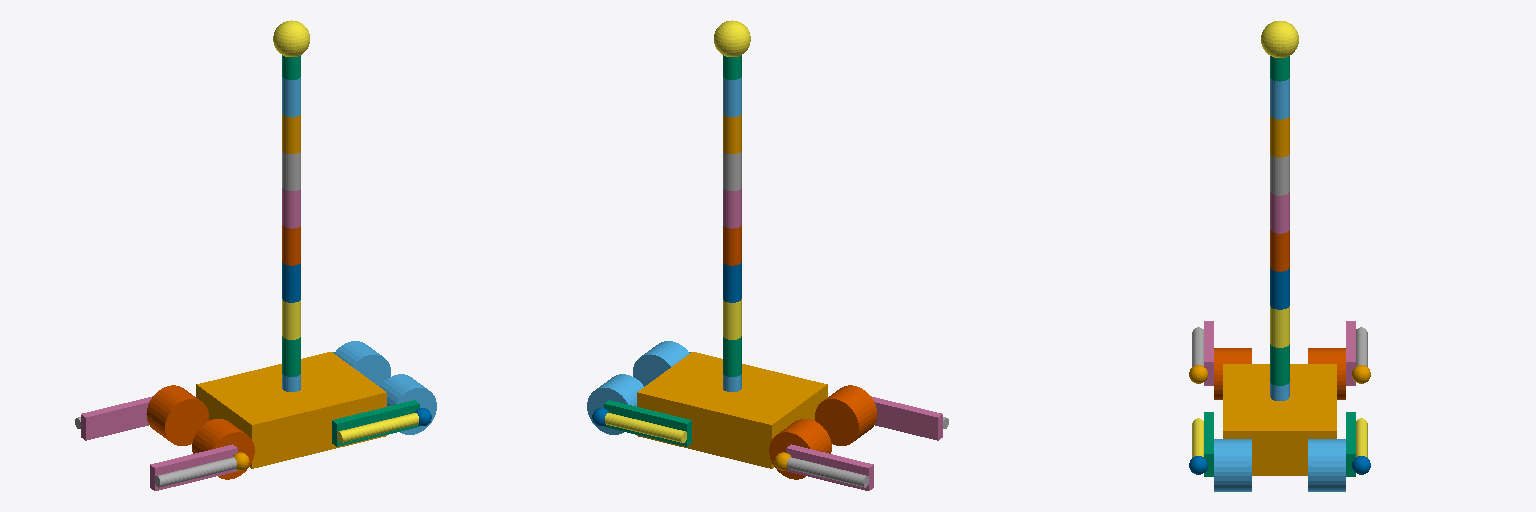
--- Facts derived from the render (not from the file) ---
3 views of the same robot in one strip: view 1: azimuth 30°, elevation 25°; view 2: azimuth 150°, elevation 25°; view 3: azimuth 270°, elevation 25° (orthographic).
Robot: spirit — 28 links, 27 joints (22 revolute, 5 fixed); root link body; default pose: every joint at zero.
Visible links, largest first — view 1: body, hip1, upper1, hip3, hip2, upper2, upper3, hip0, tail_mass, lower2, lower3, tail_link_5 (+7 smaller); view 2: body, hip3, upper3, hip1, hip0, upper0, upper1, hip2, tail_mass, lower0, lower1, tail_link_5 (+7 smaller); view 3: body, hip0, hip2, tail_mass, hip1, hip3, tail_link_2, tail_link_3, tail_link_6, tail_link_7, tail_link_8, tail_link_1 (+6 smaller).
Link boxes in pixels (left/top/right/bottom): body: left=196, top=352, right=386, bottom=468; hip1: left=146, top=385, right=208, bottom=445; upper1: left=81, top=396, right=152, bottom=440; hip3: left=192, top=419, right=254, bottom=479; hip2: left=380, top=374, right=436, bottom=434; upper2: left=332, top=400, right=419, bottom=446; upper3: left=150, top=444, right=237, bottom=490; hip0: left=334, top=341, right=390, bottom=386; tail_mass: left=273, top=20, right=309, bottom=56; lower2: left=337, top=413, right=418, bottom=442; lower3: left=154, top=457, right=236, bottom=487; tail_link_5: left=282, top=188, right=300, bottom=228; body: left=637, top=352, right=827, bottom=468; hip3: left=815, top=385, right=877, bottom=445; upper3: left=871, top=396, right=942, bottom=440; hip1: left=769, top=419, right=831, bottom=479; hip0: left=587, top=374, right=643, bottom=434; upper0: left=604, top=400, right=691, bottom=446; upper1: left=786, top=444, right=873, bottom=490; hip2: left=633, top=341, right=689, bottom=386; tail_mass: left=714, top=20, right=750, bottom=56; lower0: left=605, top=413, right=686, bottom=442; lower1: left=787, top=457, right=869, bottom=487; tail_link_5: left=723, top=188, right=741, bottom=228; body: left=1223, top=364, right=1336, bottom=475; hip0: left=1308, top=439, right=1345, bottom=491; hip2: left=1214, top=439, right=1251, bottom=491; tail_mass: left=1261, top=21, right=1298, bottom=57; hip1: left=1308, top=348, right=1345, bottom=399; hip3: left=1214, top=348, right=1251, bottom=399; tail_link_2: left=1270, top=306, right=1289, bottom=347; tail_link_3: left=1270, top=268, right=1289, bottom=309; tail_link_6: left=1270, top=154, right=1289, bottom=195; tail_link_7: left=1270, top=116, right=1289, bottom=157; tail_link_8: left=1270, top=78, right=1289, bottom=119; tail_link_1: left=1270, top=344, right=1289, bottom=385.
Size in the robot's own frame: 0.7136 by 0.382 by 0.9766 metres.
Geometry: primitives only (box / cylinder / sphere), no mesh files.

The robot description file, URDF, robot "spirit":
<?xml version="1.0" encoding="utf-8"?>
<!-- =================================================================================== -->
<!-- |    This document was autogenerated by xacro from xacro/spirit_gazebo_tail.urdf.xacro | -->
<!-- |    EDITING THIS FILE BY HAND IS NOT RECOMMENDED                                 | -->
<!-- =================================================================================== -->
<!-- 
MIT License (modified)

Copyright (c) 2020 Ghost Robotics
Authors:
Avik De <[email redacted]>
Tom Jacobs <[email redacted]>

Permission is hereby granted, free of charge, to any person obtaining a copy
of this **file** (the "Software"), to deal
in the Software without restriction, including without limitation the rights
to use, copy, modify, merge, publish, distribute, sublicense, and/or sell
copies of the Software, and to permit persons to whom the Software is
furnished to do so, subject to the following conditions:

The above copyright notice and this permission notice shall be included in all
copies or substantial portions of the Software.

THE SOFTWARE IS PROVIDED "AS IS", WITHOUT WARRANTY OF ANY KIND, EXPRESS OR
IMPLIED, INCLUDING BUT NOT LIMITED TO THE WARRANTIES OF MERCHANTABILITY,
FITNESS FOR A PARTICULAR PURPOSE AND NONINFRINGEMENT. IN NO EVENT SHALL THE
AUTHORS OR COPYRIGHT HOLDERS BE LIABLE FOR ANY CLAIM, DAMAGES OR OTHER
LIABILITY, WHETHER IN AN ACTION OF CONTRACT, TORT OR OTHERWISE, ARISING FROM,
OUT OF OR IN CONNECTION WITH THE SOFTWARE OR THE USE OR OTHER DEALINGS IN THE
SOFTWARE. 
-->
<robot name="spirit">
  <!-- Plugins -->
  <gazebo>
    <plugin filename="libgazebo_ros_control.so" name="gazebo_ros_control">
      <robotNamespace>/spirit</robotNamespace>
      <controlPeriod>0.002</controlPeriod>
    </plugin>
    <plugin filename="libground_truth_estimator.so" name="ground_truth_estimator">
      <updateRateHz>500.0</updateRateHz>
    </plugin>
  </gazebo>
  <!--link name="body_dummy">
		<inertial>
			<mass value="${bodyMass}" />
			<inertia ixx="0.05" ixy="0" ixz="0" iyy="0.1" iyz="0" izz="0.1" />
		</inertial>
	</link>
	<joint name="dummy_joint" type="fixed">
		<parent link="body_dummy" />
		<child link="body" />
	</joint-->
  <!-- Body -->
  <link name="body">
    <visual>
      <origin rpy="0 0 0" xyz="0 0 0"/>
      <geometry>
        <box size="0.335 0.24 0.104"/>
      </geometry>
      <material name="darkgray"/>
    </visual>
    <inertial>
      <mass value="7.388"/>
      <!--<mass value="${bodyMass}" /> -->
      <!-- Uniform box -->
      <!-- <inertia ixx="1/12*${bodyMass}*(${bodyWidth}*${bodyWidth} + ${bodyHeight}*${bodyHeight})"  ixy="0"  ixz="0" iyy="1/12*${bodyMass}*(${bodyLength}*${bodyLength} + ${bodyHeight}*${bodyHeight})" iyz="0" izz="1/12*${bodyMass}*(${bodyLength}*${bodyLength} + ${bodyWidth}*${bodyWidth})"/> -->
      <inertia ixx="0.0642434782" ixy="0" ixz="0" iyy="0.1284869565" iyz="0" izz="0.1284869565"/>
      <!--<inertia ixx="0.05" ixy="0" ixz="0" iyy="0.1" iyz="0" izz="0.1" />-->
    </inertial>
    <!-- Just copy geometry for collision -->
    <collision>
      <origin rpy="0 0 0" xyz="0 0 0"/>
      <geometry>
        <box size="0.335 0.24 0.104"/>
      </geometry>
    </collision>
  </link>
  <gazebo reference="body">
    <material>Gazebo/Black</material>
  </gazebo>
  <!-- Hip motor -->
  <link name="hip0">
    <visual>
      <origin rpy="1.5707963268 0 0" xyz="0 0.028 0"/>
      <geometry>
        <cylinder length="0.08" radius="0.055"/>
      </geometry>
    </visual>
    <collision>
      <origin rpy="1.5707963268 0 0" xyz="0 0.028 0"/>
      <geometry>
        <cylinder length="0.08" radius="0.055"/>
      </geometry>
    </collision>
    <inertial>
      <origin rpy="1.5707963268 0 0" xyz="0 0.028 0"/>
      <mass value="0.575"/>
      <inertia ixx="0.000741510416667" ixy="0" ixz="0" iyy="0.000741510416667" iyz="0" izz="0.0008696875"/>
      <!-- Okay for now... forgot when cylinder is formed what direction is x pointing in -->
      <!--inertia ixx="0.00066963541" ixy="0" ixz="0" iyy="0.00066963541" iyz="0" izz="0.0008696875" /-->
    </inertial>
  </link>
  <gazebo reference="hip0">
    <material>Gazebo/Grey</material>
  </gazebo>
  <!-- Abduction joint. Joint names are: 8 9 10 11 -->
  <joint name="8" type="revolute">
    <parent link="body"/>
    <child link="hip0"/>
    <axis xyz="1 0 0"/>
    <origin xyz="0.2263 0.07 0"/>
    <limit effort="21" lower="-0.707" upper="0.707" velocity="37.7"/>
    <dynamics damping="0.0" friction="0.0"/>
  </joint>
  <!-- Transmission elements required for Gazebo -->
  <transmission name="transmission_8">
    <type>transmission_interface/SimpleTransmission</type>
    <joint name="8">
      <hardwareInterface>hardware_interface/EffortJointInterface</hardwareInterface>
    </joint>
    <actuator name="motor_8">
      <hardwareInterface>EffortJointInterface</hardwareInterface>
      <mechanicalReduction>1</mechanicalReduction>
    </actuator>
  </transmission>
  <!-- Upper leg -->
  <link name="upper0">
    <visual>
      <origin rpy="0 0 0" xyz="-0.103 -0.022 0"/>
      <geometry>
        <box size="0.206 0.022 0.055"/>
      </geometry>
      <material name="silver"/>
    </visual>
    <collision>
      <origin rpy="0 0 0" xyz="-0.103 -0.022 0"/>
      <geometry>
        <box size="0.206 0.022 0.055"/>
      </geometry>
    </collision>
    <inertial>
      <origin rpy="0 0 0" xyz="-0.103 -0.022 0"/>
      <mass value="0.792"/>
      <!--<inertia ixx="${upperLegIxx}" ixy="0" ixz="0" iyy="${upperLegIyy}" iyz="0" izz="${upperLegIzz}" /> -->
      <inertia ixx="0.000231594" ixy="0" ixz="0" iyy="0.003000426" iyz="0" izz="0.00283272"/>
    </inertial>
  </link>
  <gazebo reference="upper0">
    <self_collide>0</self_collide>
    <material>Gazebo/DarkGrey</material>
  </gazebo>
  <!-- Hip joint. (Motor to upper leg). Joint names are: 0 2 4 6 -->
  <joint name="0" type="revolute">
    <parent link="hip0"/>
    <child link="upper0"/>
    <axis xyz="0 -1 0"/>
    <origin xyz="0 0.10098 0"/>
    <!--  rpy="0 -0.3 0" -->
    <limit effort="21" lower="-1.57" upper="3.14" velocity="37.7"/>
    <dynamics damping="0.0" friction="0.0"/>
  </joint>
  <!-- Transmission elements required for Gazebo -->
  <transmission name="transmission_0">
    <type>transmission_interface/SimpleTransmission</type>
    <joint name="0">
      <hardwareInterface>hardware_interface/EffortJointInterface</hardwareInterface>
    </joint>
    <actuator name="motor_0">
      <hardwareInterface>EffortJointInterface</hardwareInterface>
      <mechanicalReduction>1</mechanicalReduction>
    </actuator>
  </transmission>
  <!-- Lower leg -->
  <link name="lower0">
    <self_collide>0</self_collide>
    <visual>
      <origin rpy="0 1.5707963268 0" xyz="0.103 0 0"/>
      <geometry>
        <cylinder length="0.206" radius="0.013"/>
      </geometry>
      <material name="darkgray"/>
    </visual>
    <collision>
      <origin rpy="0 1.5707963268 0" xyz="0.103 0 0"/>
      <geometry>
        <cylinder length="0.206" radius="0.013"/>
      </geometry>
    </collision>
    <inertial>
      <origin rpy="0 0 0" xyz="0.103 0 0"/>
      <mass value="0.075"/>
      <!--inertia ixx="${lowerLegIxx}" ixy="0" ixz="0" iyy="${lowerLegIyy}" iyz="0" izz="${lowerLegIzz}" /-->
      <inertia ixx="2.193125e-05" ixy="0" ixz="0" iyy="0.00028413125" iyz="0" izz="0.00026825"/>
    </inertial>
  </link>
  <gazebo reference="lower0">
    <material>Gazebo/Grey</material>
  </gazebo>
  <!-- Knee joint. Joint names are: 1 3 5 7 -->
  <joint name="1" type="revolute">
    <parent link="upper0"/>
    <child link="lower0"/>
    <axis xyz="0 1 0"/>
    <origin xyz="-0.206 0 0"/>
    <!--rpy="0 0.5 0"-->
    <!--<limit effort="${jointEffortLimit}" velocity="${jointSpeedLimit}" lower="0" upper="${pi}" />-->
    <limit effort="32" lower="-6.28" upper="6.28" velocity="25.1"/>
    <dynamics damping="0.0" friction="0.0"/>
  </joint>
  <!-- Transmission elements required for Gazebo -->
  <transmission name="transmission_1">
    <type>transmission_interface/SimpleTransmission</type>
    <joint name="1">
      <hardwareInterface>hardware_interface/EffortJointInterface</hardwareInterface>
    </joint>
    <actuator name="motor_1">
      <hardwareInterface>EffortJointInterface</hardwareInterface>
      <mechanicalReduction>1</mechanicalReduction>
    </actuator>
  </transmission>
  <!-- Toe -->
  <link name="toe0">
    <contact>
      <friction_anchor/>
      <stiffness value="30000.0"/>
      <damping value="1000.0"/>
      <spinning_friction value="0.3"/>
      <lateral_friction value="50.0"/>
    </contact>
    <visual>
      <origin rpy="0 0 0" xyz="0 0 0"/>
      <geometry>
        <sphere radius="0.02"/>
      </geometry>
      <material name="darkgray"/>
    </visual>
    <collision>
      <origin rpy="0 0 0" xyz="0 0 0"/>
      <geometry>
        <sphere radius="0.02"/>
      </geometry>
    </collision>
    <inertial>
      <mass value="0.015"/>
      <inertia ixx="0.000025" ixy="0" ixz="0" iyy="0.000025" iyz="0" izz="0.000025"/>
      <!-- <inertia ixx="2/5*${toeMass}*${toeRadius}*${toeRadius}"  ixy="0"  ixz="0" iyy="2/5*${toeMass}*${toeRadius}*${toeRadius}" iyz="0" izz="2/5*${toeMass}*${toeRadius}*${toeRadius}" /> -->
    </inertial>
  </link>
  <gazebo reference="toe0">
    <self_collide>0</self_collide>
    <material>Gazebo/Black</material>
    <collision>
      <surface>
        <bounce>
          <restitution_coefficient>0</restitution_coefficient>
          <threshold>1e+06</threshold>
        </bounce>
        <friction>
          <torsional>
            <coefficient>0.3</coefficient>
          </torsional>
          <ode>
            <mu>100.0</mu>
            <mu2>50.0</mu2>
          </ode>
          <bullet>
            <rolling_friction>0.3</rolling_friction>
            <friction2>50.0</friction2>
          </bullet>
        </friction>
        <contact>
          <bullet>
            <kp>30000.0</kp>
            <kd>1000.0</kd>
          </bullet>
          <ode>
            <kp>30000.0</kp>
            <kd>1000.0</kd>
          </ode>
        </contact>
      </surface>
    </collision>
  </gazebo>
  <joint name="jtoe0" type="fixed">
    <parent link="lower0"/>
    <child link="toe0"/>
    <origin xyz="0.206 0 -0.0"/>
    <dynamics damping="0.0" friction="0.0"/>
  </joint>
  <!-- Hip motor -->
  <link name="hip1">
    <visual>
      <origin rpy="1.5707963268 0 0" xyz="0 0.028 0"/>
      <geometry>
        <cylinder length="0.08" radius="0.055"/>
      </geometry>
    </visual>
    <collision>
      <origin rpy="1.5707963268 0 0" xyz="0 0.028 0"/>
      <geometry>
        <cylinder length="0.08" radius="0.055"/>
      </geometry>
    </collision>
    <inertial>
      <origin rpy="1.5707963268 0 0" xyz="0 0.028 0"/>
      <mass value="0.575"/>
      <inertia ixx="0.000741510416667" ixy="0" ixz="0" iyy="0.000741510416667" iyz="0" izz="0.0008696875"/>
      <!-- Okay for now... forgot when cylinder is formed what direction is x pointing in -->
      <!--inertia ixx="0.00066963541" ixy="0" ixz="0" iyy="0.00066963541" iyz="0" izz="0.0008696875" /-->
    </inertial>
  </link>
  <gazebo reference="hip1">
    <material>Gazebo/Grey</material>
  </gazebo>
  <!-- Abduction joint. Joint names are: 8 9 10 11 -->
  <joint name="9" type="revolute">
    <parent link="body"/>
    <child link="hip1"/>
    <axis xyz="1 0 0"/>
    <origin xyz="-0.2263 0.07 0"/>
    <limit effort="21" lower="-0.707" upper="0.707" velocity="37.7"/>
    <dynamics damping="0.0" friction="0.0"/>
  </joint>
  <!-- Transmission elements required for Gazebo -->
  <transmission name="transmission_9">
    <type>transmission_interface/SimpleTransmission</type>
    <joint name="9">
      <hardwareInterface>hardware_interface/EffortJointInterface</hardwareInterface>
    </joint>
    <actuator name="motor_9">
      <hardwareInterface>EffortJointInterface</hardwareInterface>
      <mechanicalReduction>1</mechanicalReduction>
    </actuator>
  </transmission>
  <!-- Upper leg -->
  <link name="upper1">
    <visual>
      <origin rpy="0 0 0" xyz="-0.103 -0.022 0"/>
      <geometry>
        <box size="0.206 0.022 0.055"/>
      </geometry>
      <material name="silver"/>
    </visual>
    <collision>
      <origin rpy="0 0 0" xyz="-0.103 -0.022 0"/>
      <geometry>
        <box size="0.206 0.022 0.055"/>
      </geometry>
    </collision>
    <inertial>
      <origin rpy="0 0 0" xyz="-0.103 -0.022 0"/>
      <mass value="0.792"/>
      <!--<inertia ixx="${upperLegIxx}" ixy="0" ixz="0" iyy="${upperLegIyy}" iyz="0" izz="${upperLegIzz}" /> -->
      <inertia ixx="0.000231594" ixy="0" ixz="0" iyy="0.003000426" iyz="0" izz="0.00283272"/>
    </inertial>
  </link>
  <gazebo reference="upper1">
    <self_collide>0</self_collide>
    <material>Gazebo/DarkGrey</material>
  </gazebo>
  <!-- Hip joint. (Motor to upper leg). Joint names are: 0 2 4 6 -->
  <joint name="2" type="revolute">
    <parent link="hip1"/>
    <child link="upper1"/>
    <axis xyz="0 -1 0"/>
    <origin xyz="0 0.10098 0"/>
    <!--  rpy="0 -0.3 0" -->
    <limit effort="21" lower="-1.57" upper="3.14" velocity="37.7"/>
    <dynamics damping="0.0" friction="0.0"/>
  </joint>
  <!-- Transmission elements required for Gazebo -->
  <transmission name="transmission_2">
    <type>transmission_interface/SimpleTransmission</type>
    <joint name="2">
      <hardwareInterface>hardware_interface/EffortJointInterface</hardwareInterface>
    </joint>
    <actuator name="motor_2">
      <hardwareInterface>EffortJointInterface</hardwareInterface>
      <mechanicalReduction>1</mechanicalReduction>
    </actuator>
  </transmission>
  <!-- Lower leg -->
  <link name="lower1">
    <self_collide>0</self_collide>
    <visual>
      <origin rpy="0 1.5707963268 0" xyz="0.103 0 0"/>
      <geometry>
        <cylinder length="0.206" radius="0.013"/>
      </geometry>
      <material name="darkgray"/>
    </visual>
    <collision>
      <origin rpy="0 1.5707963268 0" xyz="0.103 0 0"/>
      <geometry>
        <cylinder length="0.206" radius="0.013"/>
      </geometry>
    </collision>
    <inertial>
      <origin rpy="0 0 0" xyz="0.103 0 0"/>
      <mass value="0.075"/>
      <!--inertia ixx="${lowerLegIxx}" ixy="0" ixz="0" iyy="${lowerLegIyy}" iyz="0" izz="${lowerLegIzz}" /-->
      <inertia ixx="2.193125e-05" ixy="0" ixz="0" iyy="0.00028413125" iyz="0" izz="0.00026825"/>
    </inertial>
  </link>
  <gazebo reference="lower1">
    <material>Gazebo/Grey</material>
  </gazebo>
  <!-- Knee joint. Joint names are: 1 3 5 7 -->
  <joint name="3" type="revolute">
    <parent link="upper1"/>
    <child link="lower1"/>
    <axis xyz="0 1 0"/>
    <origin xyz="-0.206 0 0"/>
    <!--rpy="0 0.5 0"-->
    <!--<limit effort="${jointEffortLimit}" velocity="${jointSpeedLimit}" lower="0" upper="${pi}" />-->
    <limit effort="32" lower="-6.28" upper="6.28" velocity="25.1"/>
    <dynamics damping="0.0" friction="0.0"/>
  </joint>
  <!-- Transmission elements required for Gazebo -->
  <transmission name="transmission_3">
    <type>transmission_interface/SimpleTransmission</type>
    <joint name="3">
      <hardwareInterface>hardware_interface/EffortJointInterface</hardwareInterface>
    </joint>
    <actuator name="motor_3">
      <hardwareInterface>EffortJointInterface</hardwareInterface>
      <mechanicalReduction>1</mechanicalReduction>
    </actuator>
  </transmission>
  <!-- Toe -->
  <link name="toe1">
    <contact>
      <friction_anchor/>
      <stiffness value="30000.0"/>
      <damping value="1000.0"/>
      <spinning_friction value="0.3"/>
      <lateral_friction value="50.0"/>
    </contact>
    <visual>
      <origin rpy="0 0 0" xyz="0 0 0"/>
      <geometry>
        <sphere radius="0.02"/>
      </geometry>
      <material name="darkgray"/>
    </visual>
    <collision>
      <origin rpy="0 0 0" xyz="0 0 0"/>
      <geometry>
        <sphere radius="0.02"/>
      </geometry>
    </collision>
    <inertial>
      <mass value="0.015"/>
      <inertia ixx="0.000025" ixy="0" ixz="0" iyy="0.000025" iyz="0" izz="0.000025"/>
      <!-- <inertia ixx="2/5*${toeMass}*${toeRadius}*${toeRadius}"  ixy="0"  ixz="0" iyy="2/5*${toeMass}*${toeRadius}*${toeRadius}" iyz="0" izz="2/5*${toeMass}*${toeRadius}*${toeRadius}" /> -->
    </inertial>
  </link>
  <gazebo reference="toe1">
    <self_collide>0</self_collide>
    <material>Gazebo/Black</material>
    <collision>
      <surface>
        <bounce>
          <restitution_coefficient>0</restitution_coefficient>
          <threshold>1e+06</threshold>
        </bounce>
        <friction>
          <torsional>
            <coefficient>0.3</coefficient>
          </torsional>
          <ode>
            <mu>100.0</mu>
            <mu2>50.0</mu2>
          </ode>
          <bullet>
            <rolling_friction>0.3</rolling_friction>
            <friction2>50.0</friction2>
          </bullet>
        </friction>
        <contact>
          <bullet>
            <kp>30000.0</kp>
            <kd>1000.0</kd>
          </bullet>
          <ode>
            <kp>30000.0</kp>
            <kd>1000.0</kd>
          </ode>
        </contact>
      </surface>
    </collision>
  </gazebo>
  <joint name="jtoe1" type="fixed">
    <parent link="lower1"/>
    <child link="toe1"/>
    <origin xyz="0.206 0 -0.0"/>
    <dynamics damping="0.0" friction="0.0"/>
  </joint>
  <!-- Hip motor -->
  <link name="hip2">
    <visual>
      <origin rpy="1.5707963268 0 0" xyz="0 -0.028 0"/>
      <geometry>
        <cylinder length="0.08" radius="0.055"/>
      </geometry>
    </visual>
    <collision>
      <origin rpy="1.5707963268 0 0" xyz="0 -0.028 0"/>
      <geometry>
        <cylinder length="0.08" radius="0.055"/>
      </geometry>
    </collision>
    <inertial>
      <origin rpy="1.5707963268 0 0" xyz="0 -0.028 0"/>
      <mass value="0.575"/>
      <inertia ixx="0.000741510416667" ixy="0" ixz="0" iyy="0.000741510416667" iyz="0" izz="0.0008696875"/>
      <!-- Okay for now... forgot when cylinder is formed what direction is x pointing in -->
      <!--inertia ixx="0.00066963541" ixy="0" ixz="0" iyy="0.00066963541" iyz="0" izz="0.0008696875" /-->
    </inertial>
  </link>
  <gazebo reference="hip2">
    <material>Gazebo/Grey</material>
  </gazebo>
  <!-- Abduction joint. Joint names are: 8 9 10 11 -->
  <joint name="10" type="revolute">
    <parent link="body"/>
    <child link="hip2"/>
    <axis xyz="1 0 0"/>
    <origin xyz="0.2263 -0.07 0"/>
    <limit effort="21" lower="-0.707" upper="0.707" velocity="37.7"/>
    <dynamics damping="0.0" friction="0.0"/>
  </joint>
  <!-- Transmission elements required for Gazebo -->
  <transmission name="transmission_10">
    <type>transmission_interface/SimpleTransmission</type>
    <joint name="10">
      <hardwareInterface>hardware_interface/EffortJointInterface</hardwareInterface>
    </joint>
    <actuator name="motor_10">
      <hardwareInterface>EffortJointInterface</hardwareInterface>
      <mechanicalReduction>1</mechanicalReduction>
    </actuator>
  </transmission>
  <!-- Upper leg -->
  <link name="upper2">
    <visual>
      <origin rpy="0 0 0" xyz="-0.103 0.022 0"/>
      <geometry>
        <box size="0.206 0.022 0.055"/>
      </geometry>
      <material name="silver"/>
    </visual>
    <collision>
      <origin rpy="0 0 0" xyz="-0.103 0.022 0"/>
      <geometry>
        <box size="0.206 0.022 0.055"/>
      </geometry>
    </collision>
    <inertial>
      <origin rpy="0 0 0" xyz="-0.103 0.022 0"/>
      <mass value="0.792"/>
      <!--<inertia ixx="${upperLegIxx}" ixy="0" ixz="0" iyy="${upperLegIyy}" iyz="0" izz="${upperLegIzz}" /> -->
      <inertia ixx="0.000231594" ixy="0" ixz="0" iyy="0.003000426" iyz="0" izz="0.00283272"/>
    </inertial>
  </link>
  <gazebo reference="upper2">
    <self_collide>0</self_collide>
    <material>Gazebo/DarkGrey</material>
  </gazebo>
  <!-- Hip joint. (Motor to upper leg). Joint names are: 0 2 4 6 -->
  <joint name="4" type="revolute">
    <parent link="hip2"/>
    <child link="upper2"/>
    <axis xyz="0 -1 0"/>
    <origin xyz="0 -0.10098 0"/>
    <!--  rpy="0 -0.3 0" -->
    <limit effort="21" lower="-1.57" upper="3.14" velocity="37.7"/>
    <dynamics damping="0.0" friction="0.0"/>
  </joint>
  <!-- Transmission elements required for Gazebo -->
  <transmission name="transmission_4">
    <type>transmission_interface/SimpleTransmission</type>
    <joint name="4">
      <hardwareInterface>hardware_interface/EffortJointInterface</hardwareInterface>
    </joint>
    <actuator name="motor_4">
      <hardwareInterface>EffortJointInterface</hardwareInterface>
      <mechanicalReduction>1</mechanicalReduction>
    </actuator>
  </transmission>
  <!-- Lower leg -->
  <link name="lower2">
    <self_collide>0</self_collide>
    <visual>
      <origin rpy="0 1.5707963268 0" xyz="0.103 0 0"/>
      <geometry>
        <cylinder length="0.206" radius="0.013"/>
      </geometry>
      <material name="darkgray"/>
    </visual>
    <collision>
      <origin rpy="0 1.5707963268 0" xyz="0.103 0 0"/>
      <geometry>
        <cylinder length="0.206" radius="0.013"/>
      </geometry>
    </collision>
    <inertial>
      <origin rpy="0 0 0" xyz="0.103 0 0"/>
      <mass value="0.075"/>
      <!--inertia ixx="${lowerLegIxx}" ixy="0" ixz="0" iyy="${lowerLegIyy}" iyz="0" izz="${lowerLegIzz}" /-->
      <inertia ixx="2.193125e-05" ixy="0" ixz="0" iyy="0.00028413125" iyz="0" izz="0.00026825"/>
    </inertial>
  </link>
  <gazebo reference="lower2">
    <material>Gazebo/Grey</material>
  </gazebo>
  <!-- Knee joint. Joint names are: 1 3 5 7 -->
  <joint name="5" type="revolute">
    <parent link="upper2"/>
    <child link="lower2"/>
    <axis xyz="0 1 0"/>
    <origin xyz="-0.206 0 0"/>
    <!--rpy="0 0.5 0"-->
    <!--<limit effort="${jointEffortLimit}" velocity="${jointSpeedLimit}" lower="0" upper="${pi}" />-->
    <limit effort="32" lower="-6.28" upper="6.28" velocity="25.1"/>
    <dynamics damping="0.0" friction="0.0"/>
  </joint>
  <!-- Transmission elements required for Gazebo -->
  <transmission name="transmission_5">
    <type>transmission_interface/SimpleTransmission</type>
    <joint name="5">
      <hardwareInterface>hardware_interface/EffortJointInterface</hardwareInterface>
    </joint>
    <actuator name="motor_5">
      <hardwareInterface>EffortJointInterface</hardwareInterface>
      <mechanicalReduction>1</mechanicalReduction>
    </actuator>
  </transmission>
  <!-- Toe -->
  <link name="toe2">
    <contact>
      <friction_anchor/>
      <stiffness value="30000.0"/>
      <damping value="1000.0"/>
      <spinning_friction value="0.3"/>
      <lateral_friction value="50.0"/>
    </contact>
    <visual>
      <origin rpy="0 0 0" xyz="0 0 0"/>
      <geometry>
        <sphere radius="0.02"/>
      </geometry>
      <material name="darkgray"/>
    </visual>
    <collision>
      <origin rpy="0 0 0" xyz="0 0 0"/>
      <geometry>
        <sphere radius="0.02"/>
      </geometry>
    </collision>
    <inertial>
      <mass value="0.015"/>
      <inertia ixx="0.000025" ixy="0" ixz="0" iyy="0.000025" iyz="0" izz="0.000025"/>
      <!-- <inertia ixx="2/5*${toeMass}*${toeRadius}*${toeRadius}"  ixy="0"  ixz="0" iyy="2/5*${toeMass}*${toeRadius}*${toeRadius}" iyz="0" izz="2/5*${toeMass}*${toeRadius}*${toeRadius}" /> -->
    </inertial>
  </link>
  <gazebo reference="toe2">
    <self_collide>0</self_collide>
    <material>Gazebo/Black</material>
    <collision>
      <surface>
        <bounce>
          <restitution_coefficient>0</restitution_coefficient>
          <threshold>1e+06</threshold>
        </bounce>
        <friction>
          <torsional>
            <coefficient>0.3</coefficient>
          </torsional>
          <ode>
            <mu>100.0</mu>
            <mu2>50.0</mu2>
          </ode>
          <bullet>
            <rolling_friction>0.3</rolling_friction>
            <friction2>50.0</friction2>
          </bullet>
        </friction>
        <contact>
          <bullet>
            <kp>30000.0</kp>
            <kd>1000.0</kd>
          </bullet>
          <ode>
            <kp>30000.0</kp>
            <kd>1000.0</kd>
          </ode>
        </contact>
      </surface>
    </collision>
  </gazebo>
  <joint name="jtoe2" type="fixed">
    <parent link="lower2"/>
    <child link="toe2"/>
    <origin xyz="0.206 0 -0.0"/>
    <dynamics damping="0.0" friction="0.0"/>
  </joint>
  <!-- Hip motor -->
  <link name="hip3">
    <visual>
      <origin rpy="1.5707963268 0 0" xyz="0 -0.028 0"/>
      <geometry>
        <cylinder length="0.08" radius="0.055"/>
      </geometry>
    </visual>
    <collision>
      <origin rpy="1.5707963268 0 0" xyz="0 -0.028 0"/>
      <geometry>
        <cylinder length="0.08" radius="0.055"/>
      </geometry>
    </collision>
    <inertial>
      <origin rpy="1.5707963268 0 0" xyz="0 -0.028 0"/>
      <mass value="0.575"/>
      <inertia ixx="0.000741510416667" ixy="0" ixz="0" iyy="0.000741510416667" iyz="0" izz="0.0008696875"/>
      <!-- Okay for now... forgot when cylinder is formed what direction is x pointing in -->
      <!--inertia ixx="0.00066963541" ixy="0" ixz="0" iyy="0.00066963541" iyz="0" izz="0.0008696875" /-->
    </inertial>
  </link>
  <gazebo reference="hip3">
    <material>Gazebo/Grey</material>
  </gazebo>
  <!-- Abduction joint. Joint names are: 8 9 10 11 -->
  <joint name="11" type="revolute">
    <parent link="body"/>
    <child link="hip3"/>
    <axis xyz="1 0 0"/>
    <origin xyz="-0.2263 -0.07 0"/>
    <limit effort="21" lower="-0.707" upper="0.707" velocity="37.7"/>
    <dynamics damping="0.0" friction="0.0"/>
  </joint>
  <!-- Transmission elements required for Gazebo -->
  <transmission name="transmission_11">
    <type>transmission_interface/SimpleTransmission</type>
    <joint name="11">
      <hardwareInterface>hardware_interface/EffortJointInterface</hardwareInterface>
    </joint>
    <actuator name="motor_11">
      <hardwareInterface>EffortJointInterface</hardwareInterface>
      <mechanicalReduction>1</mechanicalReduction>
    </actuator>
  </transmission>
  <!-- Upper leg -->
  <link name="upper3">
    <visual>
      <origin rpy="0 0 0" xyz="-0.103 0.022 0"/>
      <geometry>
        <box size="0.206 0.022 0.055"/>
      </geometry>
      <material name="silver"/>
    </visual>
    <collision>
      <origin rpy="0 0 0" xyz="-0.103 0.022 0"/>
      <geometry>
        <box size="0.206 0.022 0.055"/>
      </geometry>
    </collision>
    <inertial>
      <origin rpy="0 0 0" xyz="-0.103 0.022 0"/>
      <mass value="0.792"/>
      <!--<inertia ixx="${upperLegIxx}" ixy="0" ixz="0" iyy="${upperLegIyy}" iyz="0" izz="${upperLegIzz}" /> -->
      <inertia ixx="0.000231594" ixy="0" ixz="0" iyy="0.003000426" iyz="0" izz="0.00283272"/>
    </inertial>
  </link>
  <gazebo reference="upper3">
    <self_collide>0</self_collide>
    <material>Gazebo/DarkGrey</material>
  </gazebo>
  <!-- Hip joint. (Motor to upper leg). Joint names are: 0 2 4 6 -->
  <joint name="6" type="revolute">
    <parent link="hip3"/>
    <child link="upper3"/>
    <axis xyz="0 -1 0"/>
    <origin xyz="0 -0.10098 0"/>
    <!--  rpy="0 -0.3 0" -->
    <limit effort="21" lower="-1.57" upper="3.14" velocity="37.7"/>
    <dynamics damping="0.0" friction="0.0"/>
  </joint>
  <!-- Transmission elements required for Gazebo -->
  <transmission name="transmission_6">
    <type>transmission_interface/SimpleTransmission</type>
    <joint name="6">
      <hardwareInterface>hardware_interface/EffortJointInterface</hardwareInterface>
    </joint>
    <actuator name="motor_6">
      <hardwareInterface>EffortJointInterface</hardwareInterface>
      <mechanicalReduction>1</mechanicalReduction>
    </actuator>
  </transmission>
  <!-- Lower leg -->
  <link name="lower3">
    <self_collide>0</self_collide>
    <visual>
      <origin rpy="0 1.5707963268 0" xyz="0.103 0 0"/>
      <geometry>
        <cylinder length="0.206" radius="0.013"/>
      </geometry>
      <material name="darkgray"/>
    </visual>
    <collision>
      <origin rpy="0 1.5707963268 0" xyz="0.103 0 0"/>
      <geometry>
        <cylinder length="0.206" radius="0.013"/>
      </geometry>
    </collision>
    <inertial>
      <origin rpy="0 0 0" xyz="0.103 0 0"/>
      <mass value="0.075"/>
      <!--inertia ixx="${lowerLegIxx}" ixy="0" ixz="0" iyy="${lowerLegIyy}" iyz="0" izz="${lowerLegIzz}" /-->
      <inertia ixx="2.193125e-05" ixy="0" ixz="0" iyy="0.00028413125" iyz="0" izz="0.00026825"/>
    </inertial>
  </link>
  <gazebo reference="lower3">
    <material>Gazebo/Grey</material>
  </gazebo>
  <!-- Knee joint. Joint names are: 1 3 5 7 -->
  <joint name="7" type="revolute">
    <parent link="upper3"/>
    <child link="lower3"/>
    <axis xyz="0 1 0"/>
    <origin xyz="-0.206 0 0"/>
    <!--rpy="0 0.5 0"-->
    <!--<limit effort="${jointEffortLimit}" velocity="${jointSpeedLimit}" lower="0" upper="${pi}" />-->
    <limit effort="32" lower="-6.28" upper="6.28" velocity="25.1"/>
    <dynamics damping="0.0" friction="0.0"/>
  </joint>
  <!-- Transmission elements required for Gazebo -->
  <transmission name="transmission_7">
    <type>transmission_interface/SimpleTransmission</type>
    <joint name="7">
      <hardwareInterface>hardware_interface/EffortJointInterface</hardwareInterface>
    </joint>
    <actuator name="motor_7">
      <hardwareInterface>EffortJointInterface</hardwareInterface>
      <mechanicalReduction>1</mechanicalReduction>
    </actuator>
  </transmission>
  <!-- Toe -->
  <link name="toe3">
    <contact>
      <friction_anchor/>
      <stiffness value="30000.0"/>
      <damping value="1000.0"/>
      <spinning_friction value="0.3"/>
      <lateral_friction value="50.0"/>
    </contact>
    <visual>
      <origin rpy="0 0 0" xyz="0 0 0"/>
      <geometry>
        <sphere radius="0.02"/>
      </geometry>
      <material name="darkgray"/>
    </visual>
    <collision>
      <origin rpy="0 0 0" xyz="0 0 0"/>
      <geometry>
        <sphere radius="0.02"/>
      </geometry>
    </collision>
    <inertial>
      <mass value="0.015"/>
      <inertia ixx="0.000025" ixy="0" ixz="0" iyy="0.000025" iyz="0" izz="0.000025"/>
      <!-- <inertia ixx="2/5*${toeMass}*${toeRadius}*${toeRadius}"  ixy="0"  ixz="0" iyy="2/5*${toeMass}*${toeRadius}*${toeRadius}" iyz="0" izz="2/5*${toeMass}*${toeRadius}*${toeRadius}" /> -->
    </inertial>
  </link>
  <gazebo reference="toe3">
    <self_collide>0</self_collide>
    <material>Gazebo/Black</material>
    <collision>
      <surface>
        <bounce>
          <restitution_coefficient>0</restitution_coefficient>
          <threshold>1e+06</threshold>
        </bounce>
        <friction>
          <torsional>
            <coefficient>0.3</coefficient>
          </torsional>
          <ode>
            <mu>100.0</mu>
            <mu2>50.0</mu2>
          </ode>
          <bullet>
            <rolling_friction>0.3</rolling_friction>
            <friction2>50.0</friction2>
          </bullet>
        </friction>
        <contact>
          <bullet>
            <kp>30000.0</kp>
            <kd>1000.0</kd>
          </bullet>
          <ode>
            <kp>30000.0</kp>
            <kd>1000.0</kd>
          </ode>
        </contact>
      </surface>
    </collision>
  </gazebo>
  <joint name="jtoe3" type="fixed">
    <parent link="lower3"/>
    <child link="toe3"/>
    <origin xyz="0.206 0 -0.0"/>
    <dynamics damping="0.0" friction="0.0"/>
  </joint>
  <!-- Toe Plugins -->
  <gazebo reference="toe0">
    <sensor name="toe0_contact" type="contact">
      <plugin filename="libgazebo_ros_bumper.so" name="toe0_plugin">
        <alwaysOn>true</alwaysOn>
        <updateRate>500</updateRate>
        <bumperTopicName>gazebo/toe0_contact_state</bumperTopicName>
        <frameName>world</frameName>
      </plugin>
      <contact>
        <collision>toe0_collision</collision>
      </contact>
      <update_rate>500</update_rate>
    </sensor>
  </gazebo>
  <gazebo reference="toe1">
    <sensor name="toe1_contact" type="contact">
      <plugin filename="libgazebo_ros_bumper.so" name="toe1_plugin">
        <alwaysOn>true</alwaysOn>
        <updateRate>500</updateRate>
        <bumperTopicName>gazebo/toe1_contact_state</bumperTopicName>
        <frameName>world</frameName>
      </plugin>
      <contact>
        <collision>toe1_collision</collision>
      </contact>
      <update_rate>500</update_rate>
    </sensor>
  </gazebo>
  <gazebo reference="toe2">
    <sensor name="toe2_contact" type="contact">
      <plugin filename="libgazebo_ros_bumper.so" name="toe2_plugin">
        <alwaysOn>true</alwaysOn>
        <updateRate>500</updateRate>
        <bumperTopicName>gazebo/toe2_contact_state</bumperTopicName>
        <frameName>world</frameName>
      </plugin>
      <contact>
        <collision>toe2_collision</collision>
      </contact>
      <update_rate>500</update_rate>
    </sensor>
  </gazebo>
  <gazebo reference="toe3">
    <sensor name="toe3_contact" type="contact">
      <plugin filename="libgazebo_ros_bumper.so" name="toe3_plugin">
        <alwaysOn>true</alwaysOn>
        <updateRate>500</updateRate>
        <bumperTopicName>gazebo/toe3_contact_state</bumperTopicName>
        <frameName>world</frameName>
      </plugin>
      <contact>
        <collision>toe3_collision</collision>
      </contact>
      <update_rate>500</update_rate>
    </sensor>
  </gazebo>
  <!-- Preserve fixed joints -->
  <gazebo reference="jtoe0">
    <preserveFixedJoint>true</preserveFixedJoint>
  </gazebo>
  <gazebo reference="jtoe1">
    <preserveFixedJoint>true</preserveFixedJoint>
  </gazebo>
  <gazebo reference="jtoe2">
    <preserveFixedJoint>true</preserveFixedJoint>
  </gazebo>
  <gazebo reference="jtoe3">
    <preserveFixedJoint>true</preserveFixedJoint>
  </gazebo>
  <!-- TAIL -->
  <!-- Remark: Need to incorporate reasonable mass & inertia calc wrt tailLength -->
  <!-- Tail Links -->
  <link name="tail_link_0">
    <visual>
      <origin rpy="0 0 0" xyz="0 0 0.04408"/>
      <geometry>
        <cylinder length="0.08816" radius="0.02"/>
      </geometry>
      <material name="gray"/>
    </visual>
    <inertial>
      <origin rpy="0 0 0" xyz="0 0 0.04408"/>
      <mass value="0.001"/>
      <!--<inertia ixx="${tailLinkMass/12*(3*0.02*0.02 + tailLength*tailLength)}" ixy="0" ixz="0" iyy="${tailLinkMass/12*(3*0.02*0.02 + tailLength*tailLength)}" iyz="0.0" izz="${tailLinkMass*(0.02*0.02)/2}" /> -->
      <!-- Assume inertia of a sphere & scale base of 2/5MR^2 -->
      <inertia ixx="1e-06" ixy="0" ixz="0" iyy="1e-06" iyz="0" izz="1e-06"/>
    </inertial>
    <!-- No need to add collision boxes for this -->
  </link>
  <gazebo reference="tail_link_0">
    <material>Gazebo/Gray</material>
  </gazebo>
  <link name="tail_link_1">
    <visual>
      <origin rpy="0 0 0" xyz="0 0 0.04408"/>
      <geometry>
        <cylinder length="0.08816" radius="0.02"/>
      </geometry>
      <material name="gray"/>
    </visual>
    <inertial>
      <origin rpy="0 0 0" xyz="0 0 0.04408"/>
      <mass value="0.001"/>
      <inertia ixx="1e-06" ixy="0" ixz="0" iyy="1e-06" iyz="0" izz="1e-06"/>
    </inertial>
  </link>
  <gazebo reference="tail_link_1">
    <material>Gazebo/Gray</material>
  </gazebo>
  <link name="tail_link_2">
    <visual>
      <origin rpy="0 0 0" xyz="0 0 0.04408"/>
      <geometry>
        <cylinder length="0.08816" radius="0.02"/>
      </geometry>
      <material name="gray"/>
    </visual>
    <inertial>
      <origin rpy="0 0 0" xyz="0 0 0.04408"/>
      <mass value="0.001"/>
      <inertia ixx="1e-06" ixy="0" ixz="0" iyy="1e-06" iyz="0" izz="1e-06"/>
    </inertial>
  </link>
  <gazebo reference="tail_link_2">
    <material>Gazebo/Gray</material>
  </gazebo>
  <link name="tail_link_3">
    <visual>
      <origin rpy="0 0 0" xyz="0 0 0.04408"/>
      <geometry>
        <cylinder length="0.08816" radius="0.02"/>
      </geometry>
      <material name="gray"/>
    </visual>
    <inertial>
      <origin rpy="0 0 0" xyz="0 0 0.04408"/>
      <mass value="0.001"/>
      <inertia ixx="1e-06" ixy="0" ixz="0" iyy="1e-06" iyz="0" izz="1e-06"/>
    </inertial>
  </link>
  <gazebo reference="tail_link_3">
    <material>Gazebo/Gray</material>
  </gazebo>
  <link name="tail_link_4">
    <visual>
      <origin rpy="0 0 0" xyz="0 0 0.04408"/>
      <geometry>
        <cylinder length="0.08816" radius="0.02"/>
      </geometry>
      <material name="gray"/>
    </visual>
    <inertial>
      <origin rpy="0 0 0" xyz="0 0 0.04408"/>
      <mass value="0.001"/>
      <inertia ixx="1e-06" ixy="0" ixz="0" iyy="1e-06" iyz="0" izz="1e-06"/>
    </inertial>
  </link>
  <gazebo reference="tail_link_4">
    <material>Gazebo/Gray</material>
  </gazebo>
  <link name="tail_link_5">
    <visual>
      <origin rpy="0 0 0" xyz="0 0 0.04408"/>
      <geometry>
        <cylinder length="0.08816" radius="0.02"/>
      </geometry>
      <material name="gray"/>
    </visual>
    <inertial>
      <origin rpy="0 0 0" xyz="0 0 0.04408"/>
      <mass value="0.001"/>
      <inertia ixx="1e-06" ixy="0" ixz="0" iyy="1e-06" iyz="0" izz="1e-06"/>
    </inertial>
  </link>
  <gazebo reference="tail_link_5">
    <material>Gazebo/Gray</material>
  </gazebo>
  <link name="tail_link_6">
    <visual>
      <origin rpy="0 0 0" xyz="0 0 0.04408"/>
      <geometry>
        <cylinder length="0.08816" radius="0.02"/>
      </geometry>
      <material name="gray"/>
    </visual>
    <inertial>
      <origin rpy="0 0 0" xyz="0 0 0.04408"/>
      <mass value="0.001"/>
      <inertia ixx="1e-06" ixy="0" ixz="0" iyy="1e-06" iyz="0" izz="1e-06"/>
    </inertial>
  </link>
  <gazebo reference="tail_link_6">
    <material>Gazebo/Gray</material>
  </gazebo>
  <link name="tail_link_7">
    <visual>
      <origin rpy="0 0 0" xyz="0 0 0.04408"/>
      <geometry>
        <cylinder length="0.08816" radius="0.02"/>
      </geometry>
      <material name="gray"/>
    </visual>
    <inertial>
      <origin rpy="0 0 0" xyz="0 0 0.04408"/>
      <mass value="0.001"/>
      <inertia ixx="1e-06" ixy="0" ixz="0" iyy="1e-06" iyz="0" izz="1e-06"/>
    </inertial>
  </link>
  <gazebo reference="tail_link_7">
    <material>Gazebo/Gray</material>
  </gazebo>
  <link name="tail_link_8">
    <visual>
      <origin rpy="0 0 0" xyz="0 0 0.04408"/>
      <geometry>
        <cylinder length="0.08816" radius="0.02"/>
      </geometry>
      <material name="gray"/>
    </visual>
    <inertial>
      <origin rpy="0 0 0" xyz="0 0 0.04408"/>
      <mass value="0.001"/>
      <inertia ixx="1e-06" ixy="0" ixz="0" iyy="1e-06" iyz="0" izz="1e-06"/>
    </inertial>
  </link>
  <gazebo reference="tail_link_8">
    <material>Gazebo/Gray</material>
  </gazebo>
  <link name="tail_link_9">
    <visual>
      <origin rpy="0 0 0" xyz="0 0 0.04408"/>
      <geometry>
        <cylinder length="0.08816" radius="0.02"/>
      </geometry>
      <material name="gray"/>
    </visual>
    <inertial>
      <origin rpy="0 0 0" xyz="0 0 0.04408"/>
      <mass value="0.001"/>
      <inertia ixx="1e-06" ixy="0" ixz="0" iyy="1e-06" iyz="0" izz="1e-06"/>
    </inertial>
  </link>
  <gazebo reference="tail_link_9">
    <material>Gazebo/Gray</material>
  </gazebo>
  <link name="tail_mass">
    <visual>
      <origin rpy="0 0 0" xyz="0 0 0"/>
      <geometry>
        <sphere radius="0.04"/>
      </geometry>
      <material name="gray"/>
    </visual>
    <inertial>
      <mass value="0.2764"/>
      <inertia ixx="2.764e-04" ixy="0" ixz="0" iyy="2.764e-04" iyz="0" izz="2.764e-04"/>
    </inertial>
    <collision>
      <origin rpy="0 0 0" xyz=" 0 0 0"/>
      <geometry>
        <sphere radius="0.04"/>
      </geometry>
    </collision>
  </link>
  <gazebo reference="tail_mass">
    <material>Gazebo/Gray</material>
  </gazebo>
  <!-- Tail Joints -->
  <!-- Non-planar Tail -->
  <!--<joint name="body_tail_joint_0" type="revolute">
		<parent link="body" />
		<child link="tail_link_0" />
		<axis xyz="1 0 0" />
		<origin xyz="0 0 0" rpy="0 0 0" />
		<limit effort="50" lower="-1.57" upper="1.57" velocity="40" />
		<dynamics damping="0.0" friction="0.0" />
	</joint>-->
  <!-- Planar Tail -->
  <joint name="body_tail_joint_0" type="revolute">
    <parent link="body"/>
    <child link="tail_link_0"/>
    <axis xyz="0 1 0"/>
    <origin rpy="0 0 0" xyz="0 0 0"/>
    <limit effort="50" lower="-1.57" upper="1.57" velocity="40"/>
    <dynamics damping="0.0" friction="0.0"/>
  </joint>
  <joint name="body_tail_joint_1" type="revolute">
    <parent link="tail_link_0"/>
    <child link="tail_link_1"/>
    <axis xyz="0 1 0"/>
    <origin rpy="0 0 0" xyz="0 0 0.08816"/>
    <limit effort="50" lower="-1.57" upper="1.57" velocity="40"/>
    <dynamics damping="0.0" friction="0.0"/>
  </joint>
  <joint name="body_tail_joint_2" type="revolute">
    <parent link="tail_link_1"/>
    <child link="tail_link_2"/>
    <axis xyz="0 1 0"/>
    <origin rpy="0 0 0" xyz="0 0 0.08816"/>
    <limit effort="50" lower="-1.57" upper="1.57" velocity="40"/>
    <dynamics damping="0.0" friction="0.0"/>
  </joint>
  <joint name="body_tail_joint_3" type="revolute">
    <parent link="tail_link_2"/>
    <child link="tail_link_3"/>
    <axis xyz="0 1 0"/>
    <origin rpy="0 0 0" xyz="0 0 0.08816"/>
    <limit effort="50" lower="-1.57" upper="1.57" velocity="40"/>
    <dynamics damping="0.0" friction="0.0"/>
  </joint>
  <joint name="body_tail_joint_4" type="revolute">
    <parent link="tail_link_3"/>
    <child link="tail_link_4"/>
    <axis xyz="0 1 0"/>
    <origin rpy="0 0 0" xyz="0 0 0.08816"/>
    <limit effort="50" lower="-1.57" upper="1.57" velocity="40"/>
    <dynamics damping="0.0" friction="0.0"/>
  </joint>
  <joint name="body_tail_joint_5" type="revolute">
    <parent link="tail_link_4"/>
    <child link="tail_link_5"/>
    <axis xyz="0 1 0"/>
    <origin rpy="0 0 0" xyz="0 0 0.08816"/>
    <limit effort="50" lower="-1.57" upper="1.57" velocity="40"/>
    <dynamics damping="0.0" friction="0.0"/>
  </joint>
  <joint name="body_tail_joint_6" type="revolute">
    <parent link="tail_link_5"/>
    <child link="tail_link_6"/>
    <axis xyz="0 1 0"/>
    <origin rpy="0 0 0" xyz="0 0 0.08816"/>
    <limit effort="50" lower="-1.57" upper="1.57" velocity="40"/>
    <dynamics damping="0.0" friction="0.0"/>
  </joint>
  <joint name="body_tail_joint_7" type="revolute">
    <parent link="tail_link_6"/>
    <child link="tail_link_7"/>
    <axis xyz="0 1 0"/>
    <origin rpy="0 0 0" xyz="0 0 0.08816"/>
    <limit effort="50" lower="-1.57" upper="1.57" velocity="40"/>
    <dynamics damping="0.0" friction="0.0"/>
  </joint>
  <joint name="body_tail_joint_8" type="revolute">
    <parent link="tail_link_7"/>
    <child link="tail_link_8"/>
    <axis xyz="0 1 0"/>
    <origin rpy="0 0 0" xyz="0 0 0.08816"/>
    <limit effort="50" lower="-1.57" upper="1.57" velocity="40"/>
    <dynamics damping="0.0" friction="0.0"/>
  </joint>
  <joint name="body_tail_joint_9" type="revolute">
    <parent link="tail_link_8"/>
    <child link="tail_link_9"/>
    <axis xyz="0 1 0"/>
    <origin rpy="0 0 0" xyz="0 0 0.08816"/>
    <limit effort="50" lower="-1.57" upper="1.57" velocity="40"/>
    <dynamics damping="0.0" friction="0.0"/>
  </joint>
  <joint name="tail_link_mass_joint" type="fixed">
    <parent link="tail_link_9"/>
    <child link="tail_mass"/>
    <origin xyz="0 0 0.08816"/>
    <dynamic damping="0.0" friction="0.0"/>
  </joint>
  <!-- Transmission Elements Required for Gazebo Control -->
  <transmission name="transmission_body_tail_joint_0">
    <type>transmission_interface/SimpleTransmission</type>
    <joint name="body_tail_joint_0">
      <hardwareInterface>hardware_interface/EffortJointInterface</hardwareInterface>
    </joint>
    <actuator name="motor_body_tail_joint_0">
      <hardwareInterface>hardware_interface/EffortJointInterface</hardwareInterface>
      <mechanicalReduction>1</mechanicalReduction>
    </actuator>
  </transmission>
  <transmission name="transmission_body_tail_joint_1">
    <type>transmission_interface/SimpleTransmission</type>
    <joint name="body_tail_joint_1">
      <hardwareInterface>hardware_interface/EffortJointInterface</hardwareInterface>
    </joint>
    <actuator name="motor_body_tail_joint_1">
      <hardwareInterface>hardware_interface/EffortJointInterface</hardwareInterface>
      <mechanicalReduction>1</mechanicalReduction>
    </actuator>
  </transmission>
  <transmission name="transmission_body_tail_joint_2">
    <type>transmission_interface/SimpleTransmission</type>
    <joint name="body_tail_joint_2">
      <hardwareInterface>hardware_interface/EffortJointInterface</hardwareInterface>
    </joint>
    <actuator name="motor_body_tail_joint_2">
      <hardwareInterface>hardware_interface/EffortJointInterface</hardwareInterface>
      <mechanicalReduction>1</mechanicalReduction>
    </actuator>
  </transmission>
  <transmission name="transmission_body_tail_joint_3">
    <type>transmission_interface/SimpleTransmission</type>
    <joint name="body_tail_joint_3">
      <hardwareInterface>hardware_interface/EffortJointInterface</hardwareInterface>
    </joint>
    <actuator name="motor_body_tail_joint_3">
      <hardwareInterface>hardware_interface/EffortJointInterface</hardwareInterface>
      <mechanicalReduction>1</mechanicalReduction>
    </actuator>
  </transmission>
  <transmission name="transmission_body_tail_joint_4">
    <type>transmission_interface/SimpleTransmission</type>
    <joint name="body_tail_joint_4">
      <hardwareInterface>hardware_interface/EffortJointInterface</hardwareInterface>
    </joint>
    <actuator name="motor_body_tail_joint_4">
      <hardwareInterface>hardware_interface/EffortJointInterface</hardwareInterface>
      <mechanicalReduction>1</mechanicalReduction>
    </actuator>
  </transmission>
  <transmission name="transmission_body_tail_joint_5">
    <type>transmission_interface/SimpleTransmission</type>
    <joint name="body_tail_joint_5">
      <hardwareInterface>hardware_interface/EffortJointInterface</hardwareInterface>
    </joint>
    <actuator name="motor_body_tail_joint_5">
      <hardwareInterface>hardware_interface/EffortJointInterface</hardwareInterface>
      <mechanicalReduction>1</mechanicalReduction>
    </actuator>
  </transmission>
  <transmission name="transmission_body_tail_joint_6">
    <type>transmission_interface/SimpleTransmission</type>
    <joint name="body_tail_joint_6">
      <hardwareInterface>hardware_interface/EffortJointInterface</hardwareInterface>
    </joint>
    <actuator name="motor_body_tail_joint_6">
      <hardwareInterface>hardware_interface/EffortJointInterface</hardwareInterface>
      <mechanicalReduction>1</mechanicalReduction>
    </actuator>
  </transmission>
  <transmission name="transmission_body_tail_joint_7">
    <type>transmission_interface/SimpleTransmission</type>
    <joint name="body_tail_joint_7">
      <hardwareInterface>hardware_interface/EffortJointInterface</hardwareInterface>
    </joint>
    <actuator name="motor_body_tail_joint_7">
      <hardwareInterface>hardware_interface/EffortJointInterface</hardwareInterface>
      <mechanicalReduction>1</mechanicalReduction>
    </actuator>
  </transmission>
  <transmission name="transmission_body_tail_joint_8">
    <type>transmission_interface/SimpleTransmission</type>
    <joint name="body_tail_joint_8">
      <hardwareInterface>hardware_interface/EffortJointInterface</hardwareInterface>
    </joint>
    <actuator name="motor_body_tail_joint_8">
      <hardwareInterface>hardware_interface/EffortJointInterface</hardwareInterface>
      <mechanicalReduction>1</mechanicalReduction>
    </actuator>
  </transmission>
  <transmission name="transmission_body_tail_joint_9">
    <type>transmission_interface/SimpleTransmission</type>
    <joint name="body_tail_joint_9">
      <hardwareInterface>hardware_interface/EffortJointInterface</hardwareInterface>
    </joint>
    <actuator name="motor_body_tail_joint_9">
      <hardwareInterface>hardware_interface/EffortJointInterface</hardwareInterface>
      <mechanicalReduction>1</mechanicalReduction>
    </actuator>
  </transmission>
</robot>
